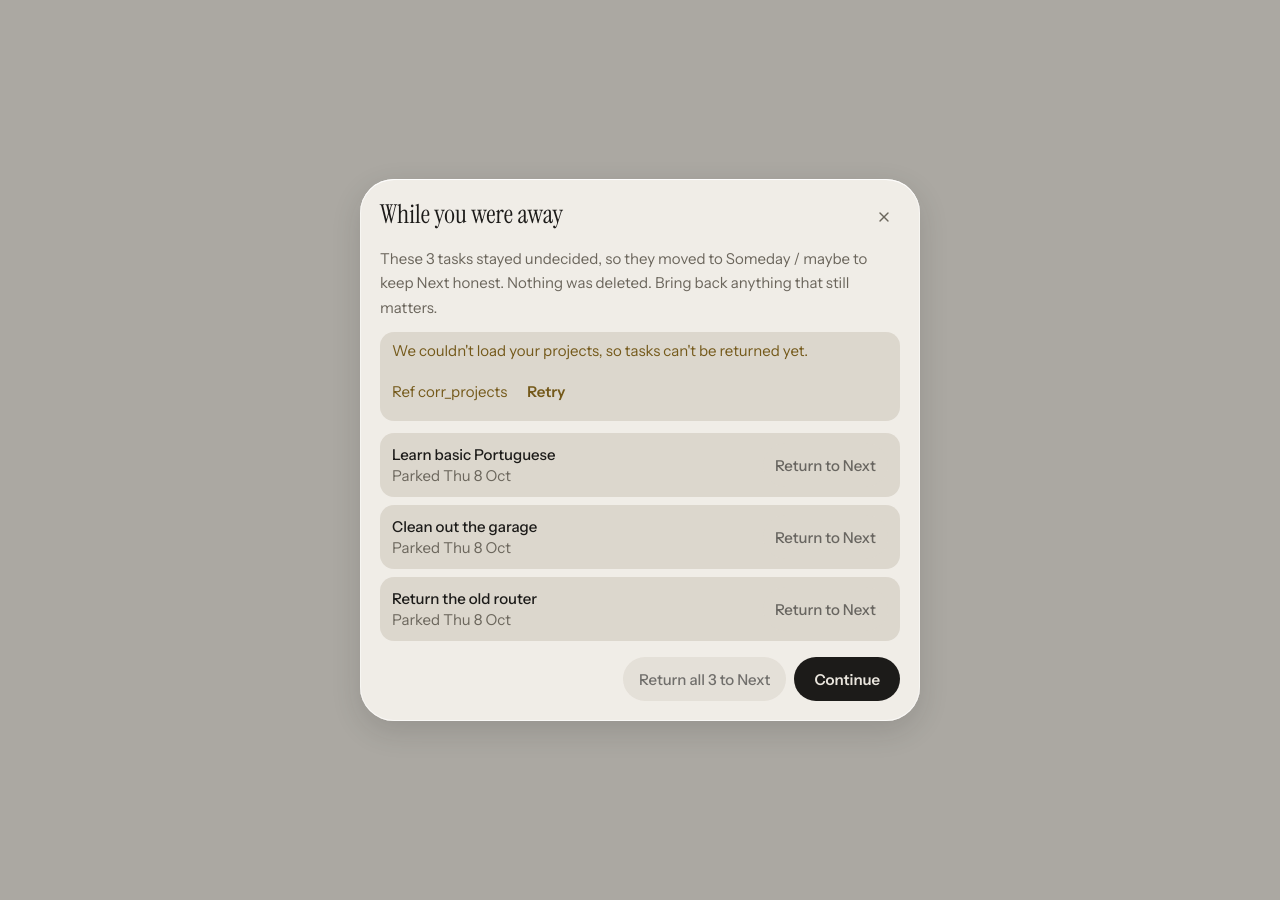
Test: 020-FR-015 While you were away dialog › 020-FR-015 020-FR-045 projects that fail to load keep returning disabled, say so with the Ref, and Retry loads them
expect the button with aria-label "Return Return the old router to Next" is disabled: met, box [763,587,888,631]
expect the button "Return all 3 to Next" is disabled: met, box [623,657,786,701]
Click the button "Retry" at (546, 391), box [515,369,577,413]
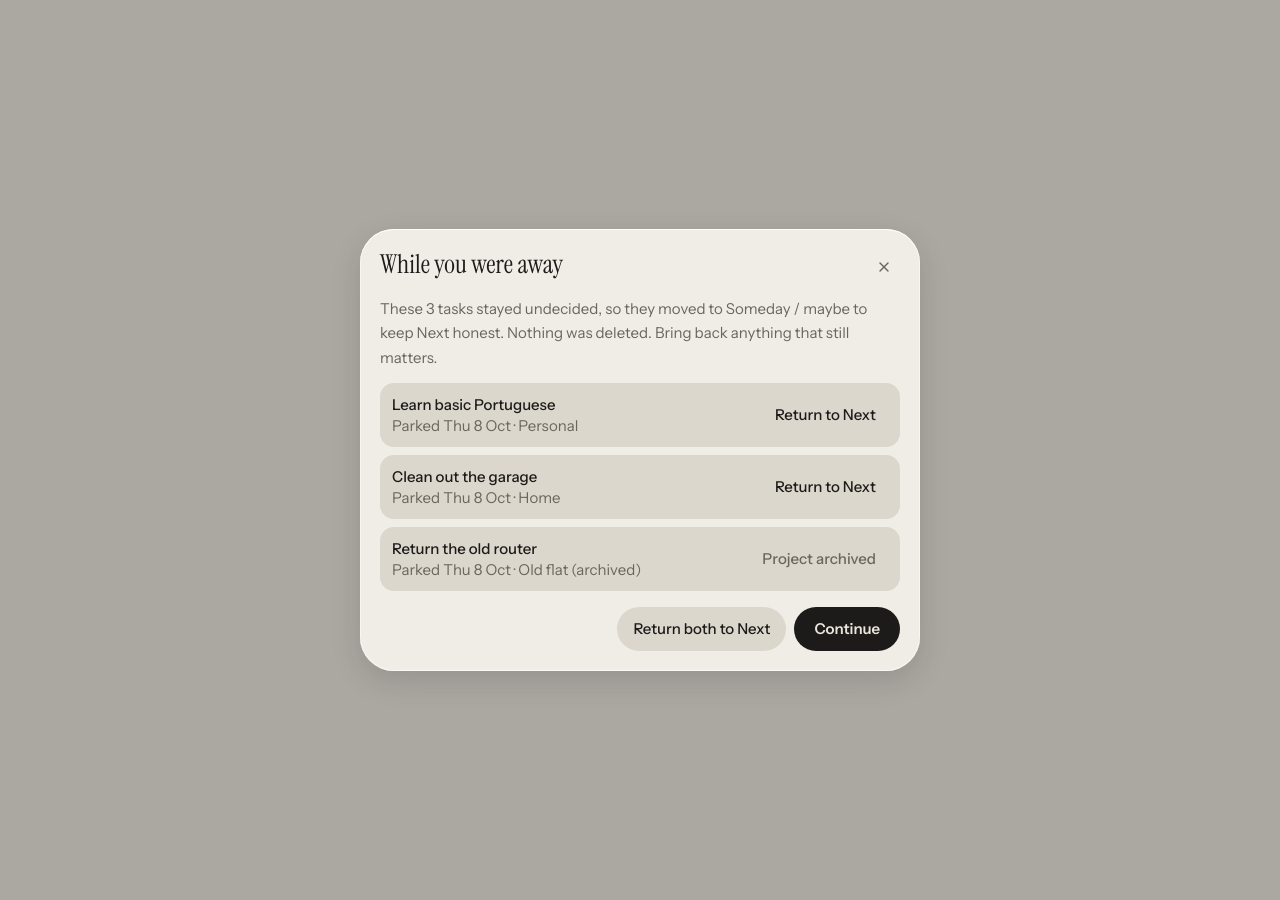
expect the button with aria-label "Return unavailable: project Old flat is archived" is shown: met, box [750,537,888,581]
expect the text "We couldn't load your projects, so tasks can't be returned yet." is gone: met
expect the button "Return both to Next" is enabled: met, box [617,607,786,651]
